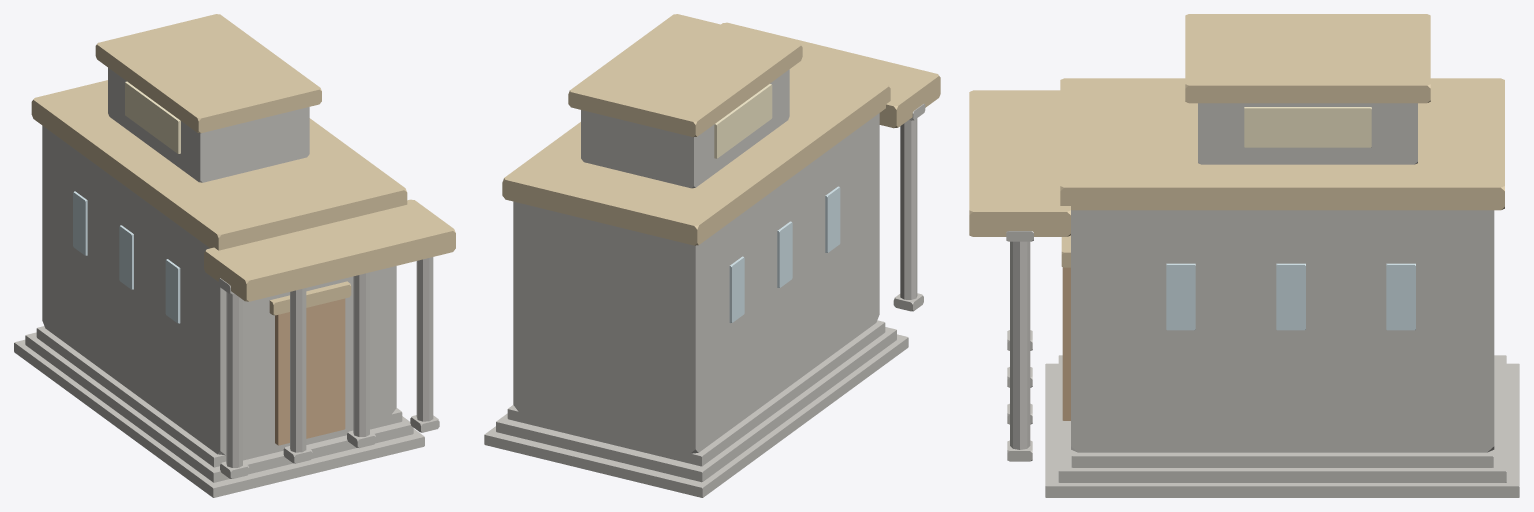
File: temple.glb
3 renders of one model, left to right at view 1: azimuth 30°, elevation 25°; view 2: azimuth 150°, elevation 25°; view 3: azimuth 270°, elevation 25°, orthographic. The views are drawn at different scales.
Parts seen in each view (by area): view 1: body_m0, body_m1, body_m3, body_m6, body_m2, body_m7, base_m0, base_m1, base_m2, col_3_m0, col_0_m0, col_2_m0 (+6 smaller); view 2: body_m0, body_m1, body_m3, body_m2, base_m0, base_m1, base_m2, body_m6, col_3_m0, body_m4, body_m9, body_m11 (+1 smaller); view 3: body_m0, body_m1, body_m3, body_m6, base_m0, base_m1, body_m2, base_m2, body_m5, col_0_m0, body_m10, body_m12 (+2 smaller).
Boxes of the visible parts, x1,y1,x2,y2 form: body_m0: (42, 125, 396, 455); body_m1: (31, 80, 407, 250); body_m3: (95, 14, 321, 133); body_m6: (204, 199, 455, 301); body_m2: (108, 67, 309, 182); body_m7: (275, 298, 345, 445); base_m0: (14, 339, 424, 497); base_m1: (25, 332, 413, 482); base_m2: (36, 326, 402, 467); col_3_m0: (226, 292, 242, 467); col_0_m0: (416, 257, 433, 421); col_2_m0: (290, 288, 306, 452); body_m0: (513, 113, 879, 453); body_m1: (502, 63, 890, 245); body_m3: (568, 14, 802, 137); body_m2: (581, 69, 789, 188); base_m0: (484, 334, 908, 497); base_m1: (496, 327, 896, 482); base_m2: (507, 320, 885, 466); body_m6: (721, 22, 940, 128); col_3_m0: (900, 118, 917, 299); body_m4: (714, 84, 772, 158); body_m9: (729, 256, 744, 322); body_m11: (777, 221, 792, 287); body_m0: (1071, 210, 1494, 452); body_m1: (1060, 78, 1504, 210); body_m3: (1185, 14, 1430, 103); body_m6: (969, 90, 1070, 236); base_m0: (1045, 363, 1519, 497); base_m1: (1058, 355, 1506, 482); body_m2: (1198, 103, 1417, 164); base_m2: (1071, 450, 1493, 467); body_m5: (1244, 107, 1371, 147); col_0_m0: (1010, 241, 1030, 449); body_m10: (1386, 263, 1415, 330); body_m12: (1276, 263, 1305, 330).
Size of the model in its own units: 6 by 8.82 by 11.38.
